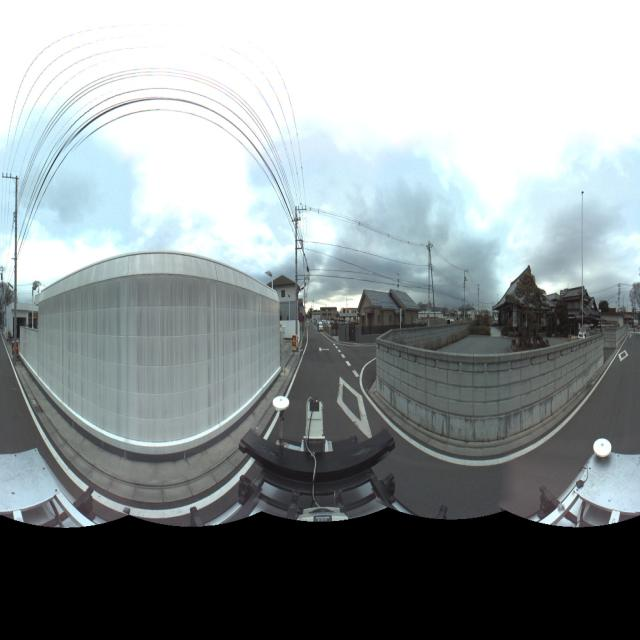b_1: (499, 259, 558, 337), (258, 262, 306, 342), (358, 278, 416, 329)
